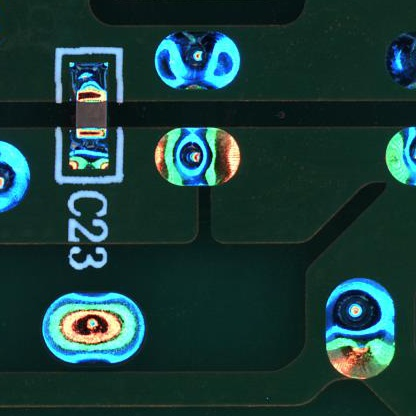spot: (30, 283, 154, 375), (315, 265, 403, 389), (151, 23, 251, 99), (148, 125, 258, 194)
